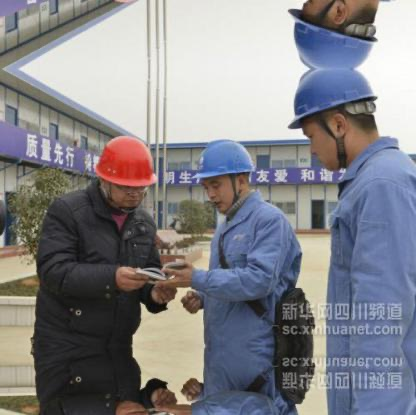Safety Helmet: (284, 67, 386, 174), (283, 1, 386, 66), (90, 131, 160, 217), (188, 135, 262, 213)
